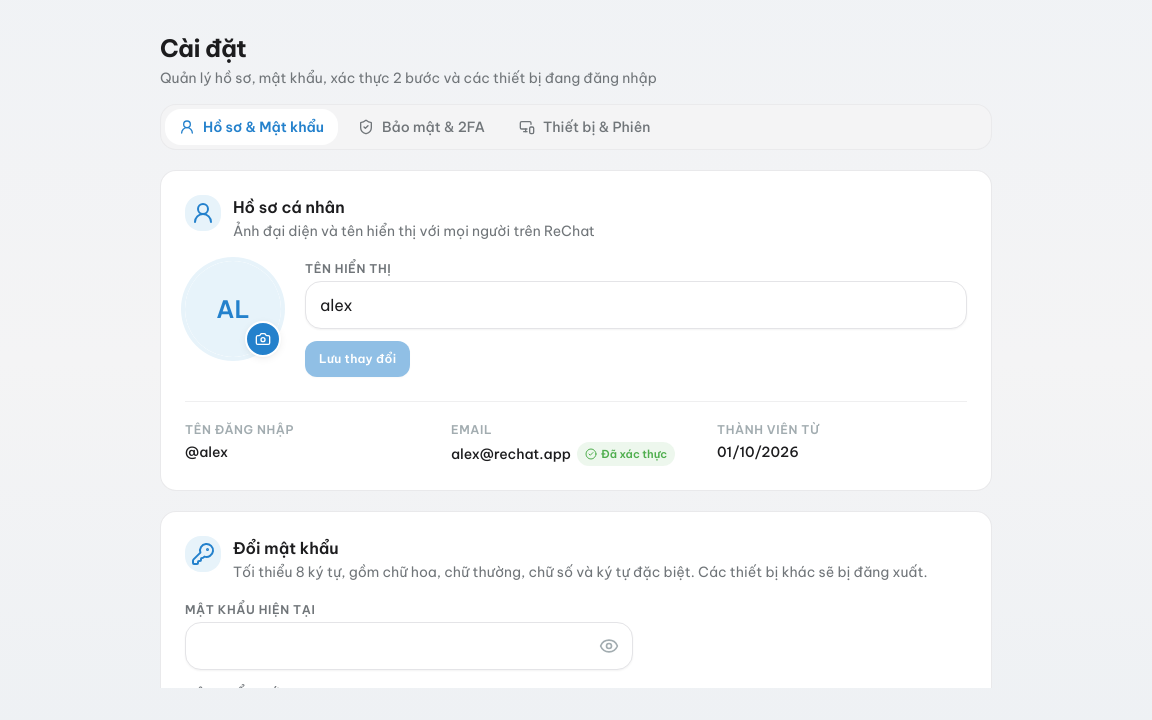
Test: SettingsPage › switches tabs and mirrors the active tab in the URL query
This screenshot has width=1152, height=720.
Click the tab with test id "settings-tab-security" at x=422, y=127, box [344, 109, 499, 145]
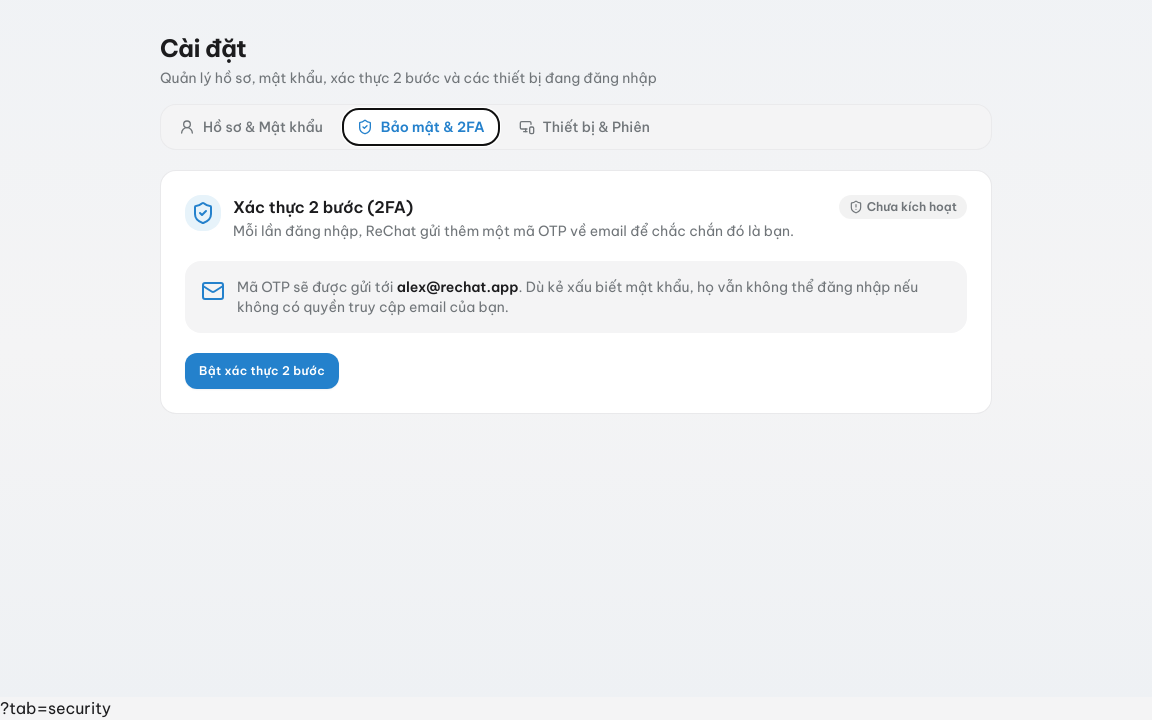
expect the element with test id "security-tab" is shown: met, box [160, 170, 992, 414]
expect the text with test id "location" reads "?tab=security": met, box [0, 698, 111, 718]
Click the tab with test id "settings-tab-sessions" at x=584, y=127, box [505, 109, 664, 145]
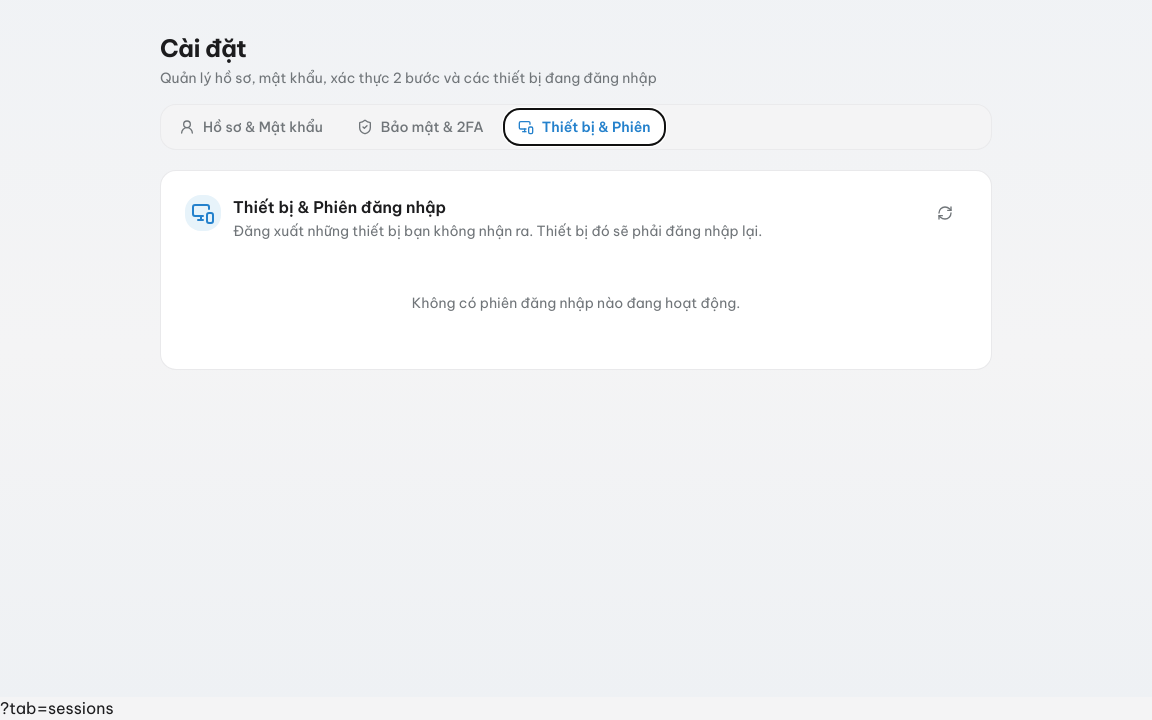
expect the element with test id "sessions-tab" is shown: met, box [160, 170, 992, 370]
expect the text with test id "location" reads "?tab=sessions": met, box [0, 698, 114, 718]
Click the tab with test id "settings-tab-profile" at x=251, y=127, box [165, 109, 337, 145]
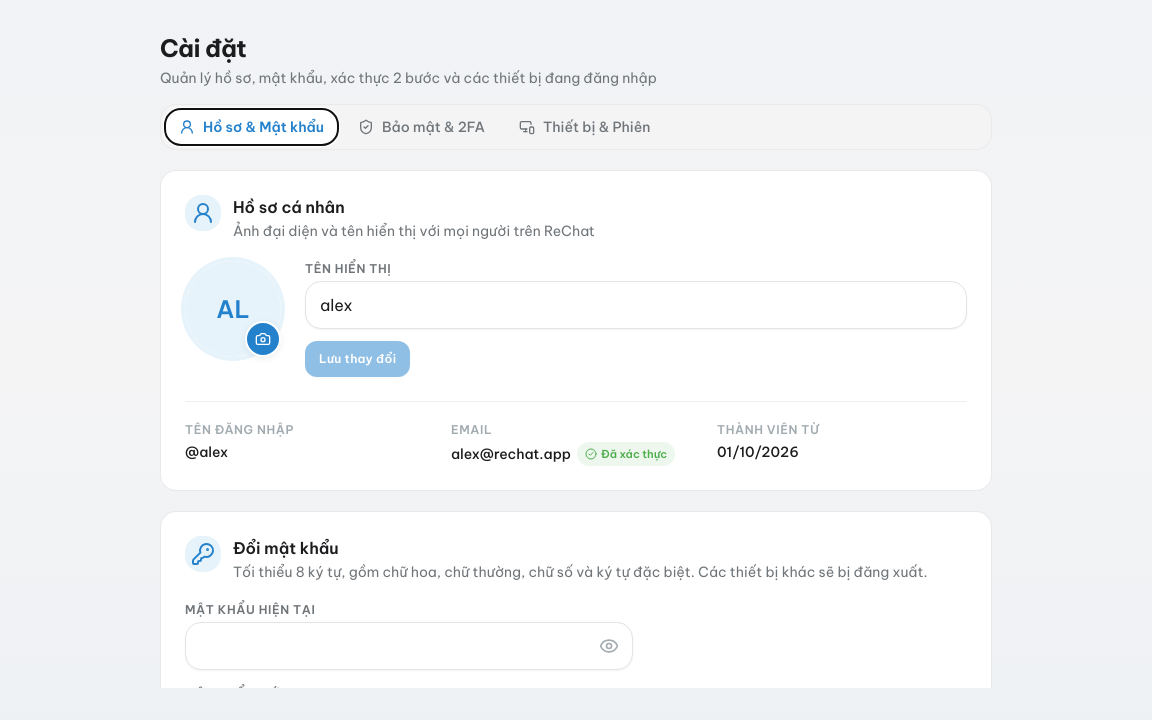
expect the element with test id "profile-tab" is shown: met, box [160, 170, 992, 688]
